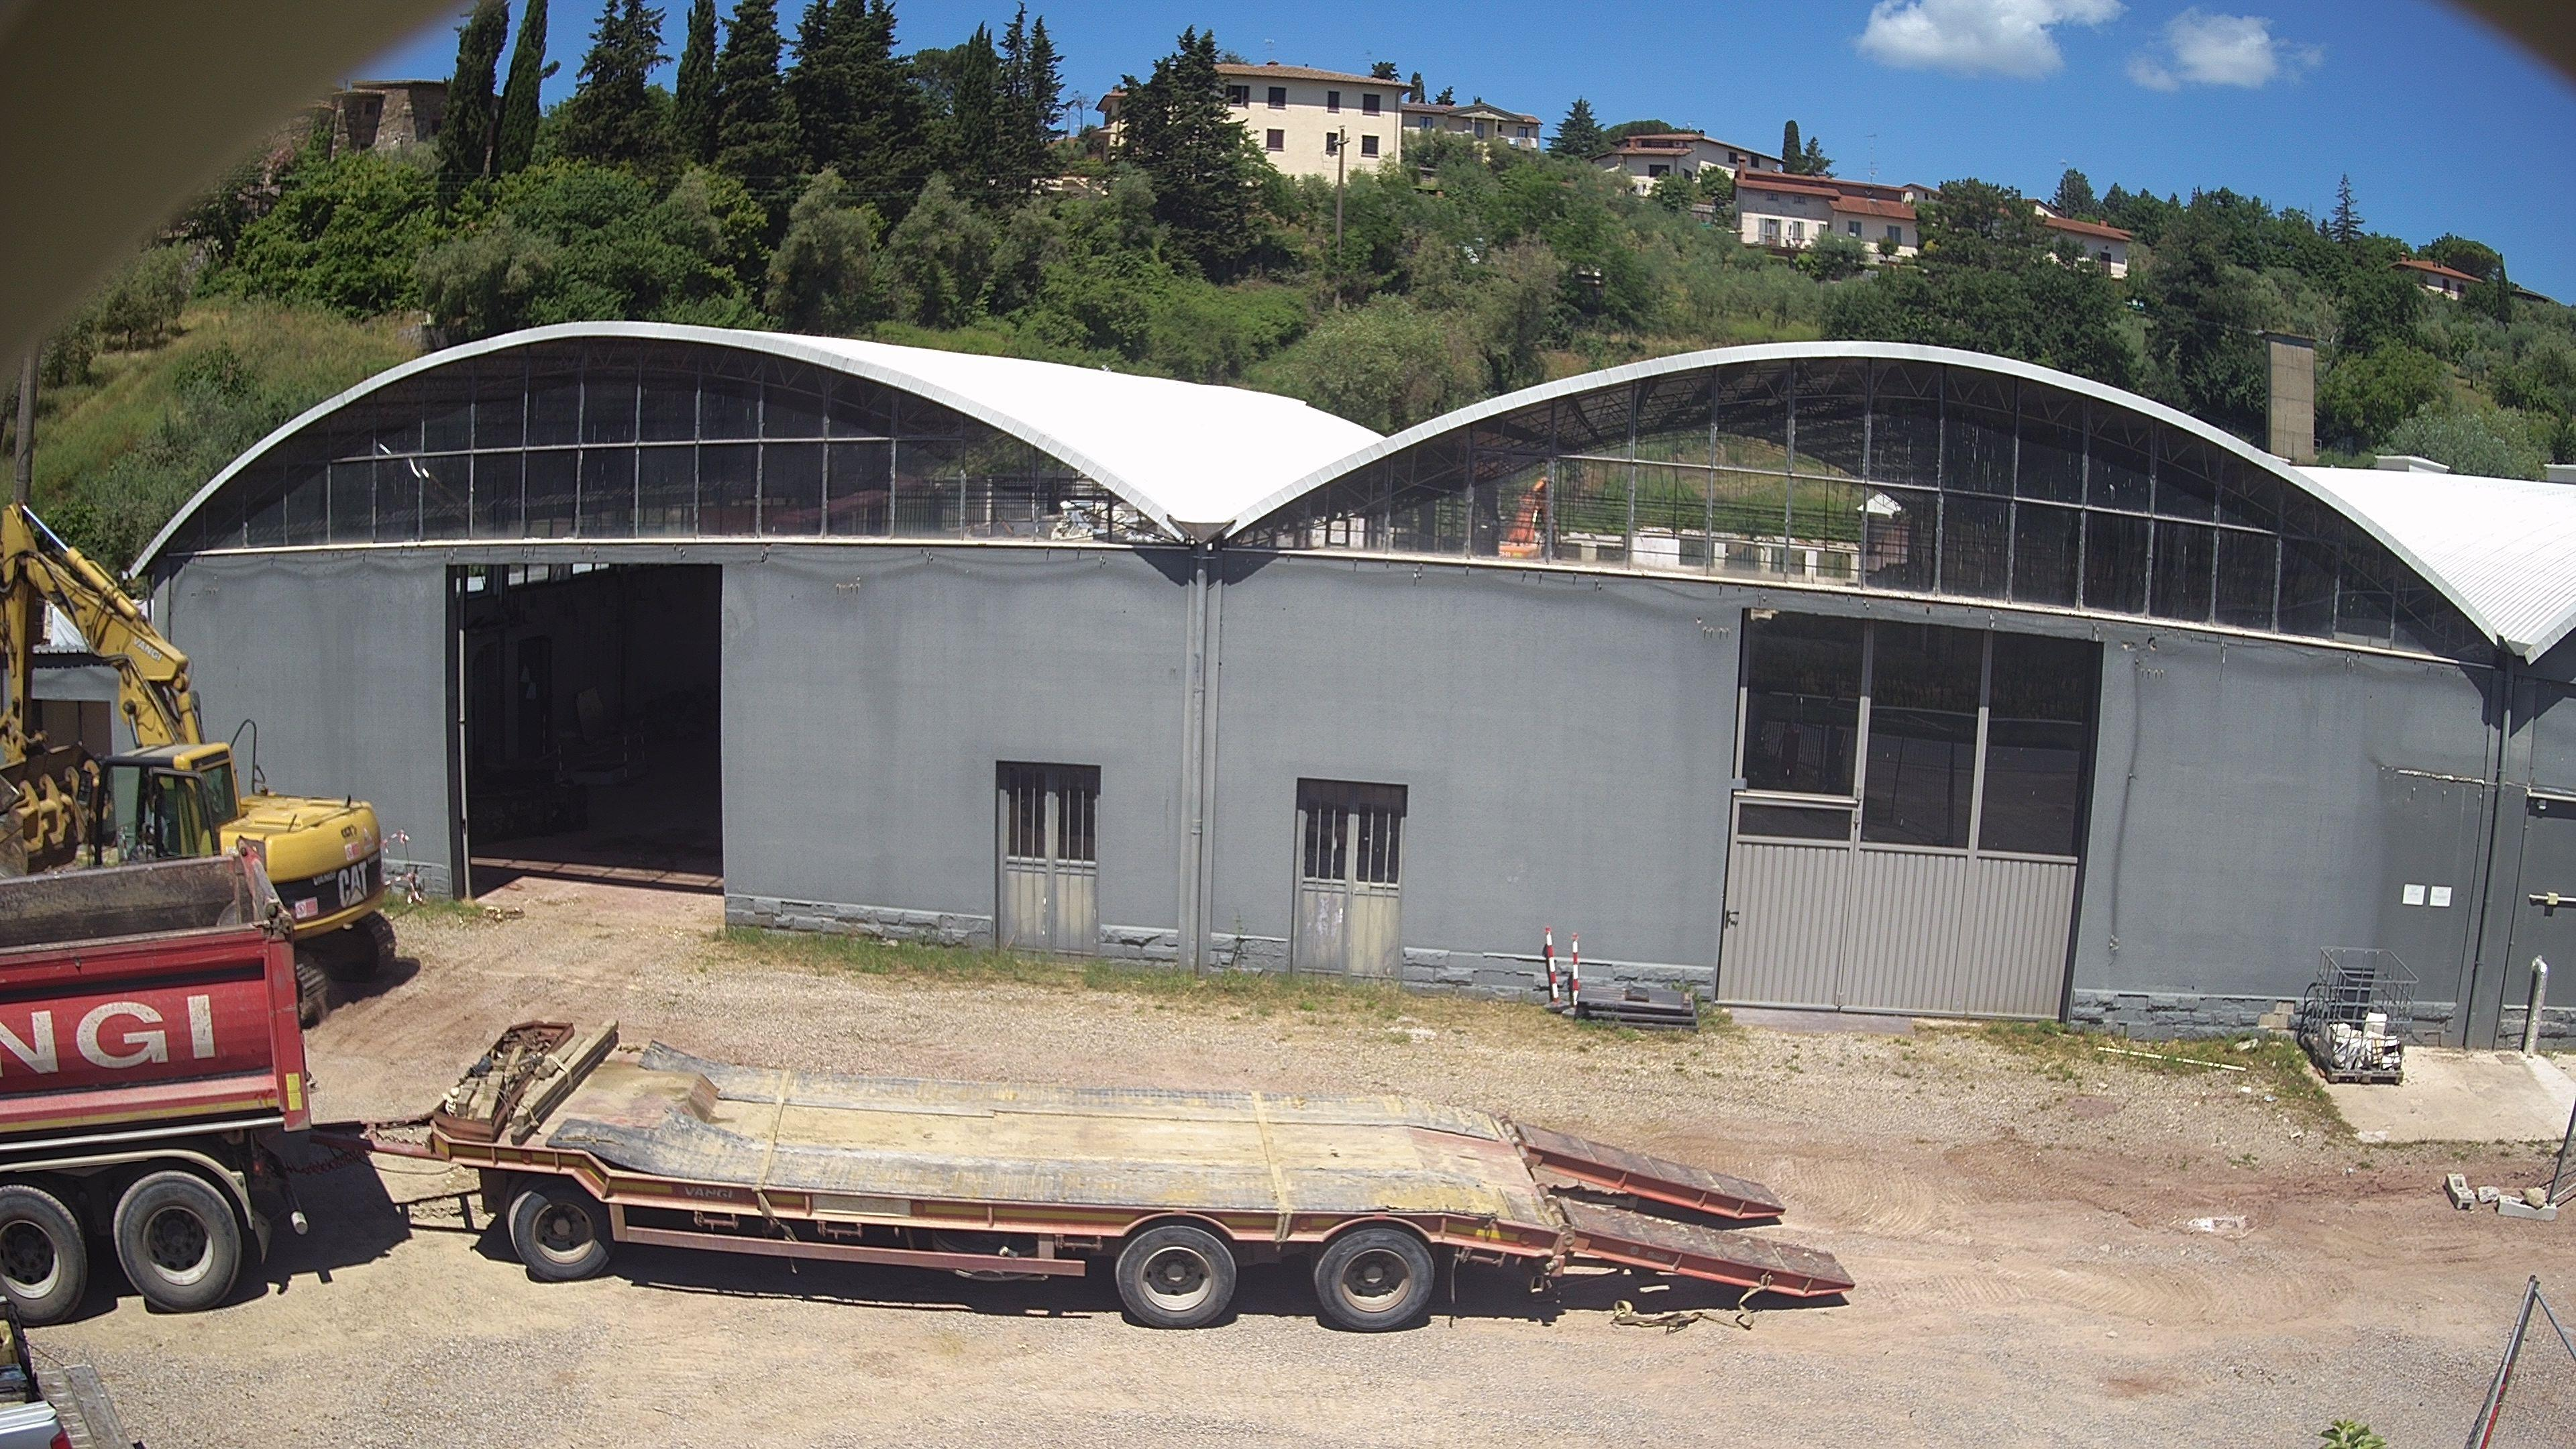Trucks: (0, 828, 315, 1329)
excavator: (0, 504, 398, 1026), (1497, 478, 1553, 563)
